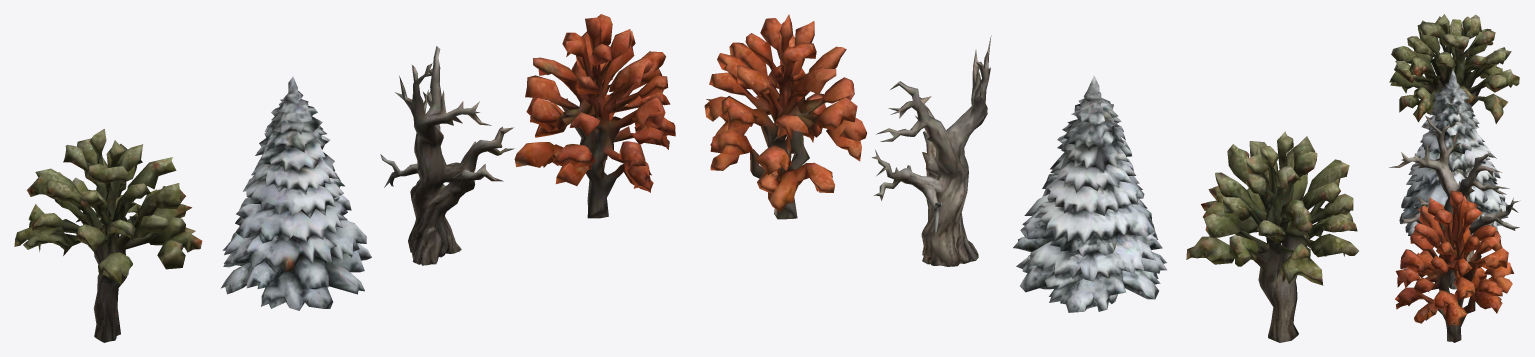
The model's file is trees_season.glb.
3 views of the same model, side by side, from view 1: azimuth 30°, elevation 25°; view 2: azimuth 150°, elevation 25°; view 3: azimuth 270°, elevation 25° (orthographic). The views are drawn at different scales.
Parts seen in each view (by area): view 1: fir_snow, maple_autumn, apple, dead_tree; view 2: fir_snow, maple_autumn, apple, dead_tree; view 3: maple_autumn, apple, fir_snow, dead_tree.
Boxes of the visible parts, x1,y1,x2,y2 form: fir_snow: (221,76,371,310); maple_autumn: (514,14,675,218); apple: (14,129,202,342); dead_tree: (380,46,514,265); fir_snow: (1013,75,1166,312); maple_autumn: (704,14,866,219); apple: (1186,131,1358,342); dead_tree: (872,35,991,266); maple_autumn: (1395,190,1514,342); apple: (1389,14,1519,123); fir_snow: (1399,70,1507,235); dead_tree: (1389,115,1520,289).
Bounding box in the file's own units: 1.06 × 0.3333 × 0.2523.
Materials: 1 (1 with a texture image).
